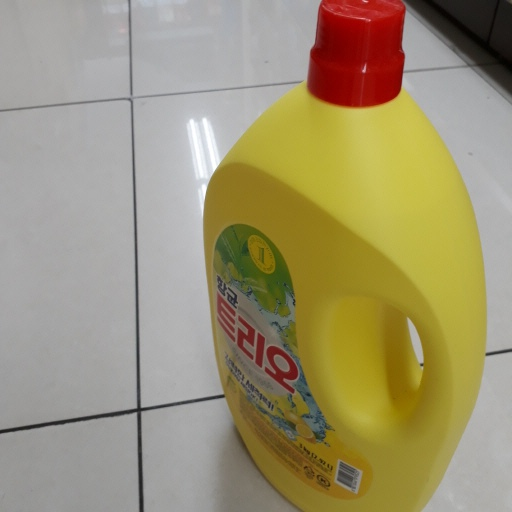Plastic_1: (203, 2, 487, 512)
